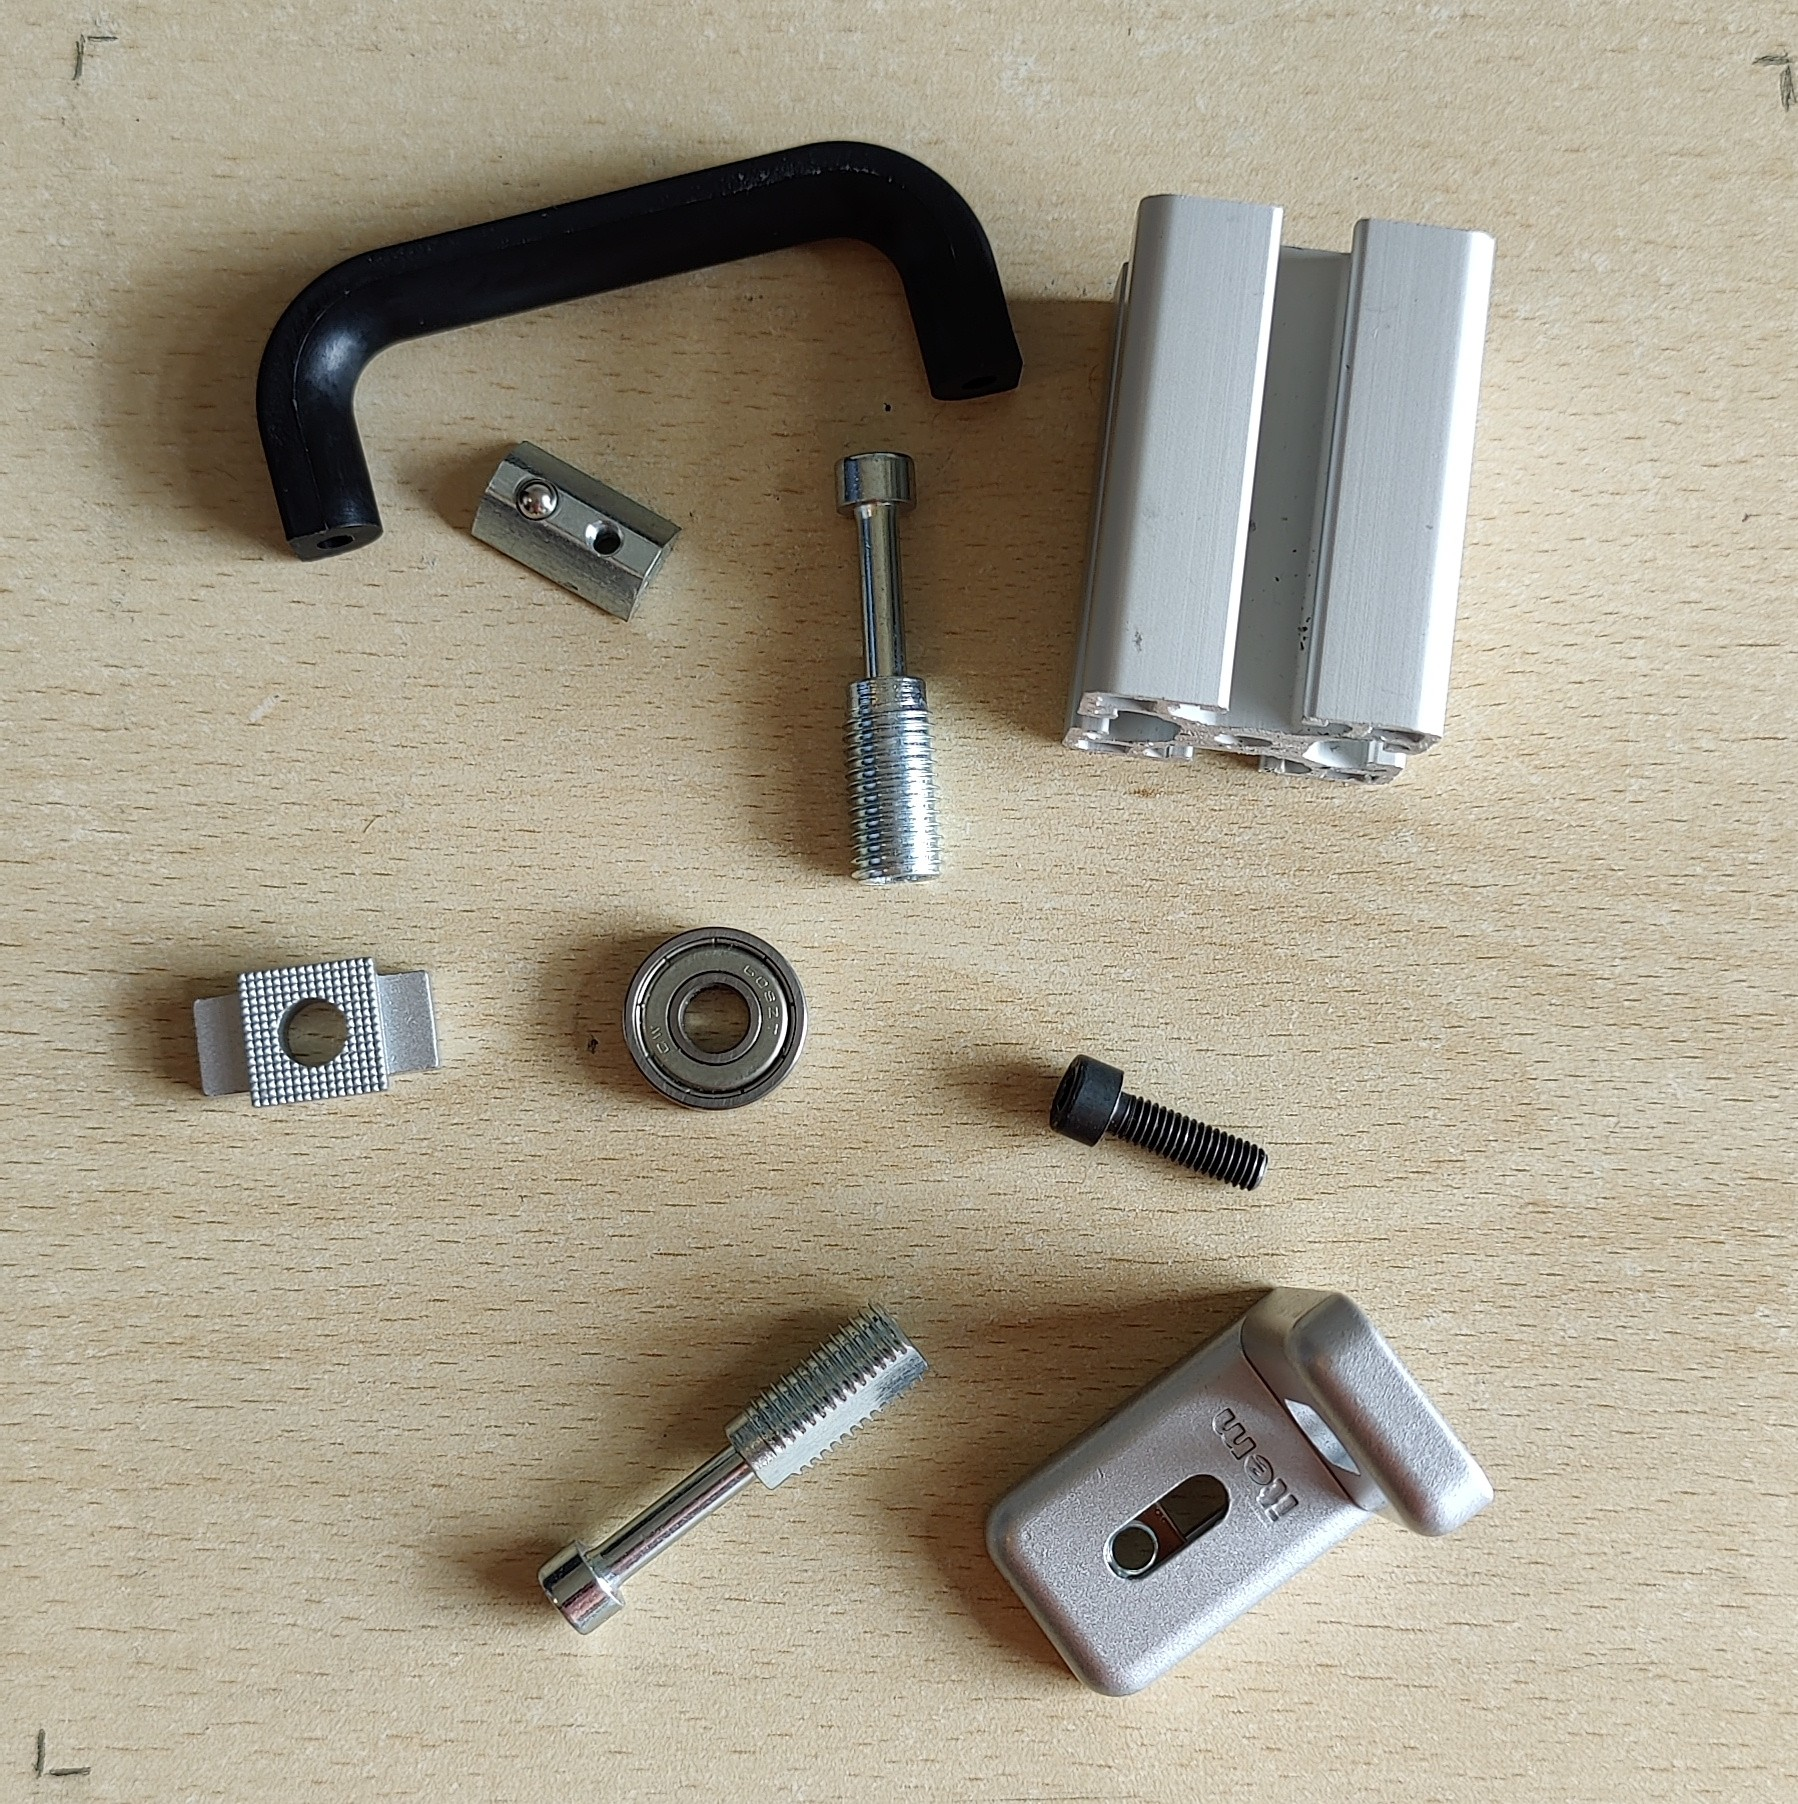Aluminium Extension: (1057, 188, 1497, 787)
Ball Bearing: (619, 923, 810, 1116)
Multiwinkel: (976, 1284, 1492, 1699)
Pull Handle: (254, 137, 1027, 565)
Shoulder Socket Head Cap Screw: (537, 1294, 930, 1639), (831, 448, 948, 887)
Socket Head Cap Screw: (1046, 1052, 1273, 1198)
T Nut Square: (189, 953, 446, 1113)
T Spring Nut: (466, 435, 687, 627)
